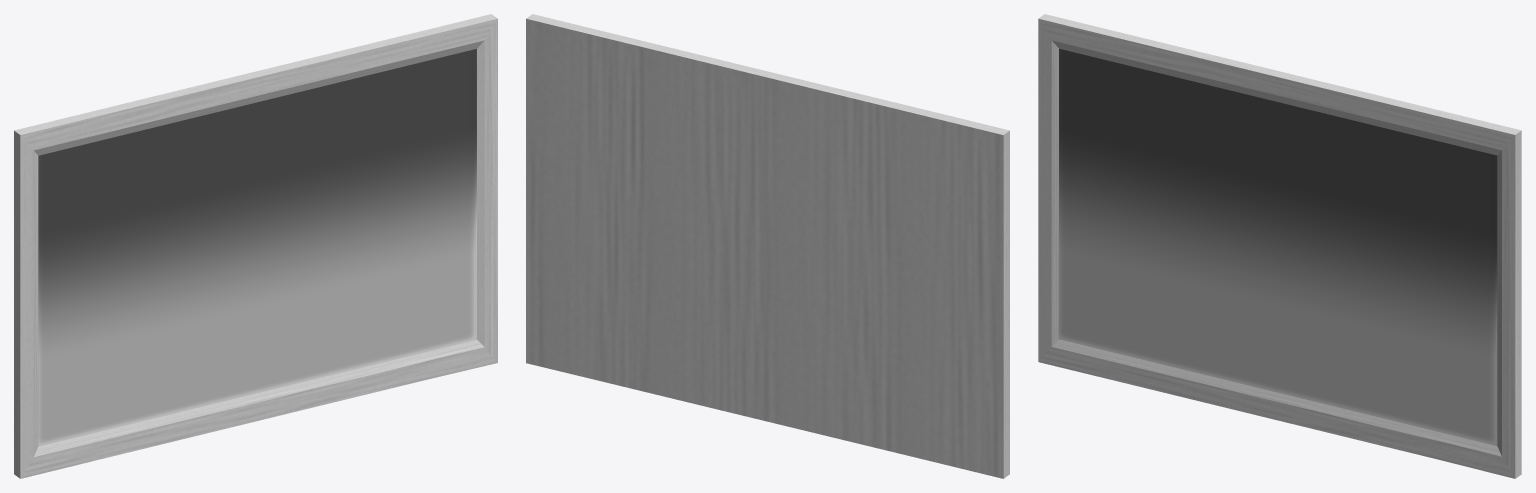
File: Mirror_B.FBX
3 views of the same model, side by side, from view 1: azimuth 30°, elevation 25°; view 2: azimuth 150°, elevation 25°; view 3: azimuth 330°, elevation 25° (orthographic).
Parts seen in each view (by area): view 1: Mirror; view 2: Mirror; view 3: Mirror.
Part boxes in pixels (x1,y1,x2,y2): Mirror: [14, 14, 497, 478]; Mirror: [526, 14, 1009, 478]; Mirror: [1038, 14, 1521, 478].
Size of the model in its own units: 238 by 164 by 5.52.
